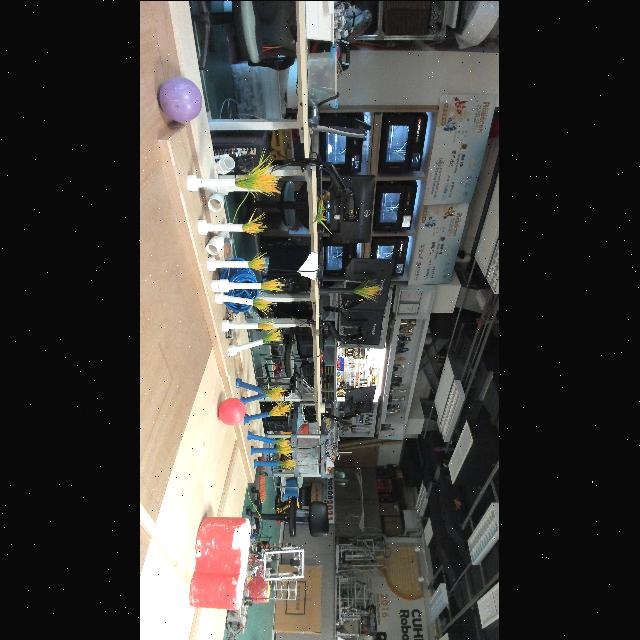P: (156, 74, 204, 124)
R: (217, 395, 247, 427)
S: (262, 578, 298, 600)
